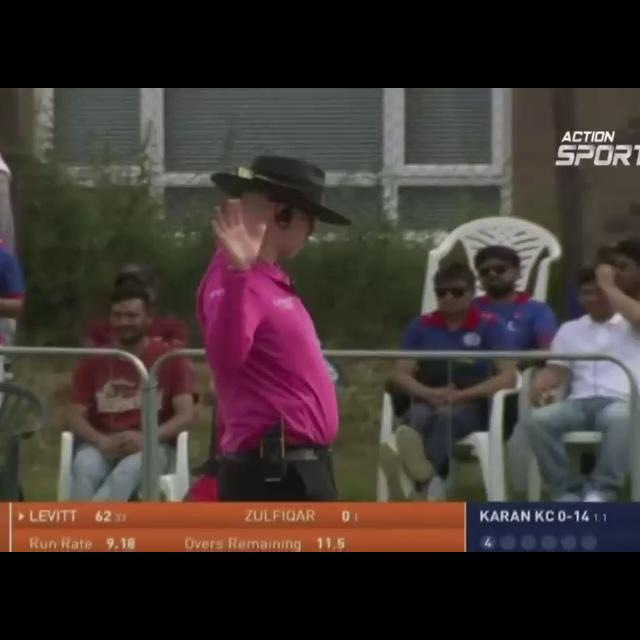umpire: (117, 113, 481, 476)
